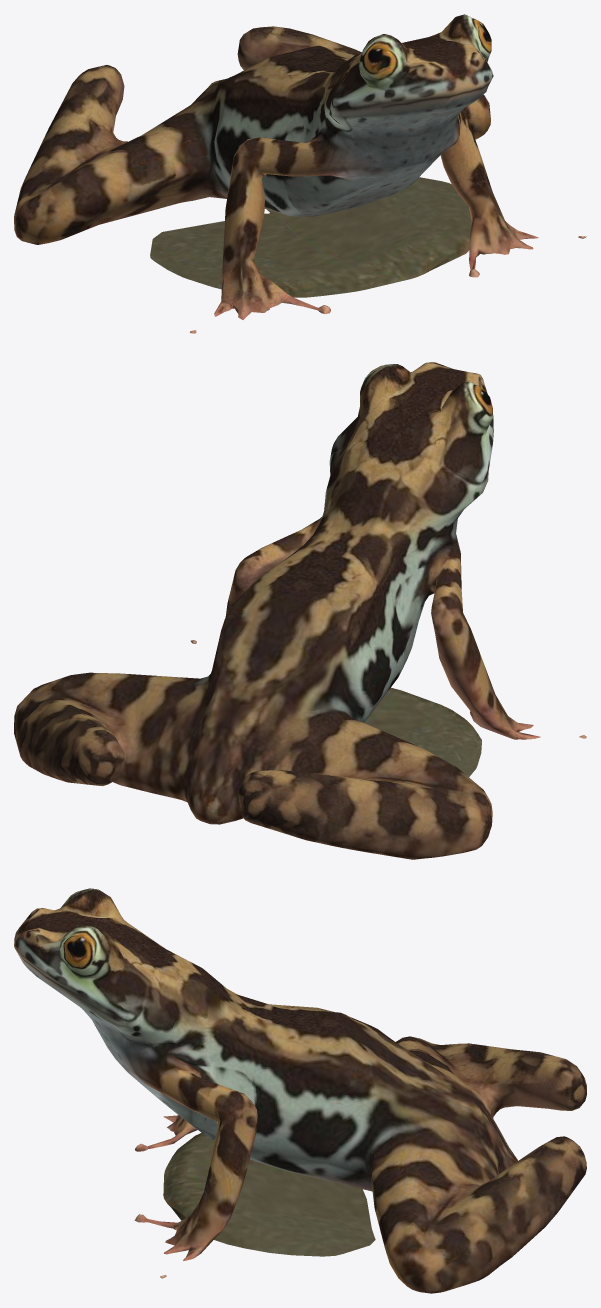
File: frog-2.glb
The picture shows the model from 3 angles, top to bottom: view 1: azimuth 30°, elevation 25°; view 2: azimuth 150°, elevation 25°; view 3: azimuth 270°, elevation 25°; orthographic projection. The views are drawn at different scales.
Visible parts, largest first — view 1: Mesh_0; view 2: Mesh_0; view 3: Mesh_0.
Boxes of the visible parts, x1,y1,x2,y2 form: Mesh_0: [14, 14, 586, 333]; Mesh_0: [14, 362, 586, 859]; Mesh_0: [14, 888, 586, 1293].
Size of the model in its own units: 1.33 by 0.7788 by 1.46.
1 material, 1 textured.
